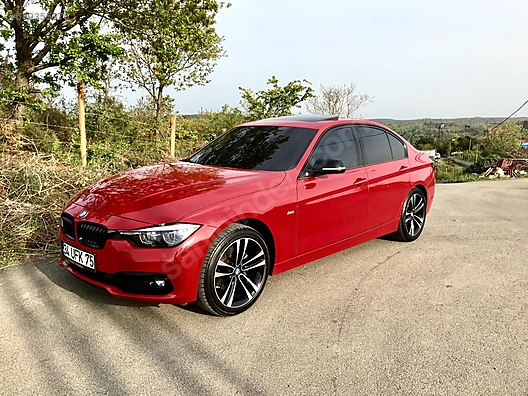b: (50, 108, 444, 319)
